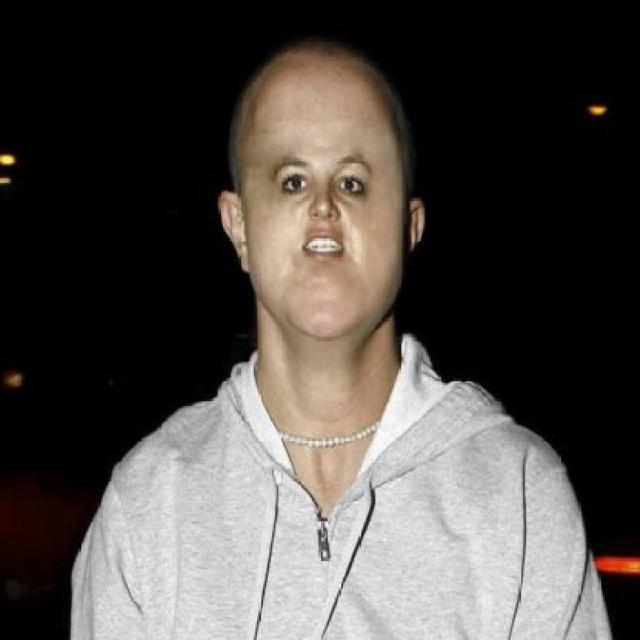no_helmet: (198, 27, 440, 216)
